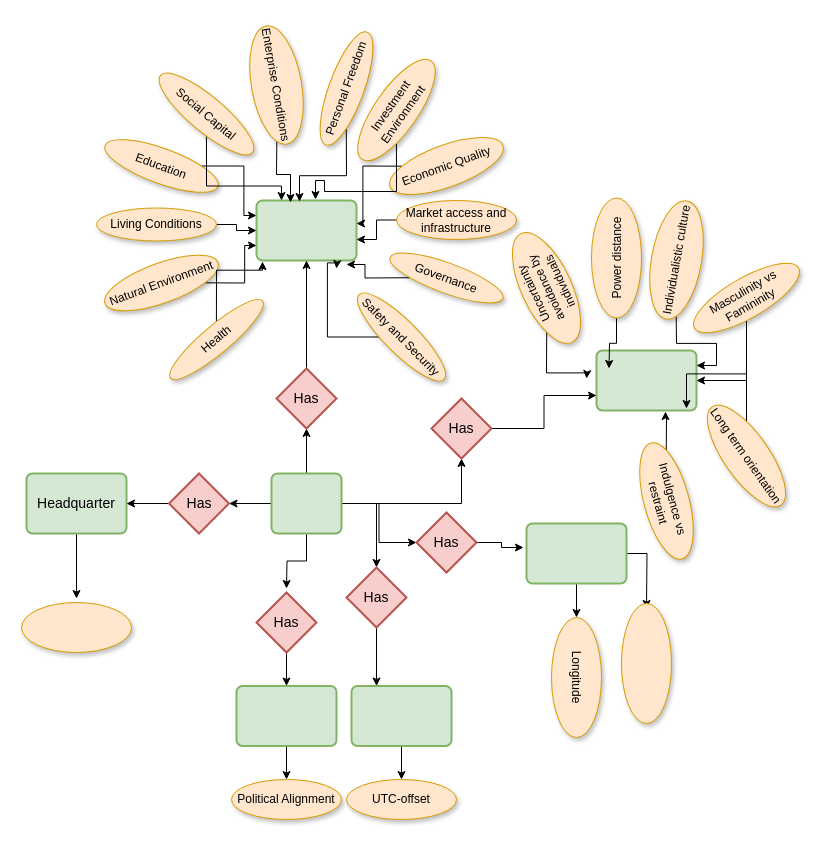
Image size: 835x845. Some labels were removed from this diagram. The shapes that lost their labels are listed below. From the top down, each one's centre as x and y in pixels, then its label:
At [306,230]: "Economic Profile".
At [646,380]: "Cultural Values".
At [306,503]: "Country".
At [576,553]: "Geographical Values (Lat/Lon)".
At [77,629]: "name".
At [647,664]: "Latitude".
At [286,715]: "Political barrier".
At [401,715]: "Time-Zone".
